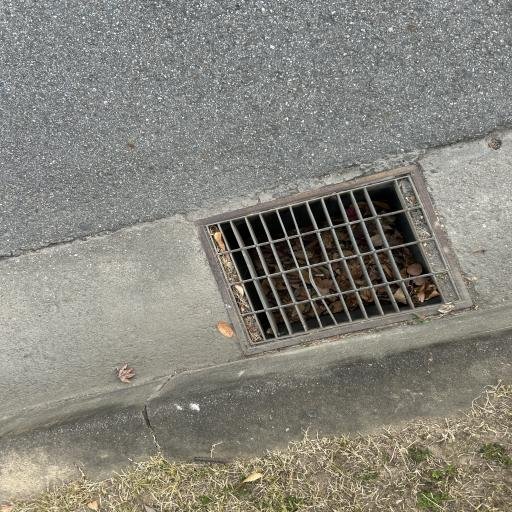drain: (198, 170, 468, 351)
